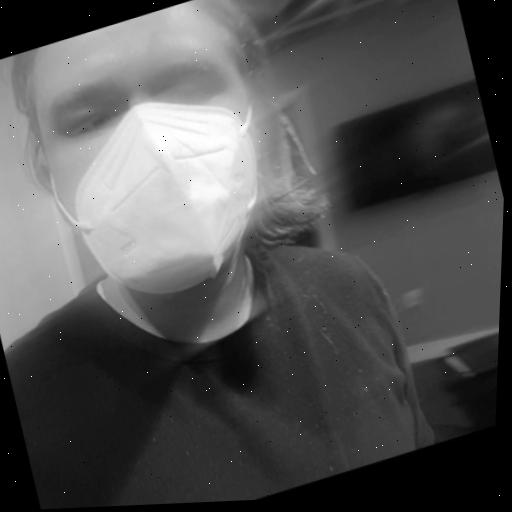mask: (0, 0, 349, 342)
